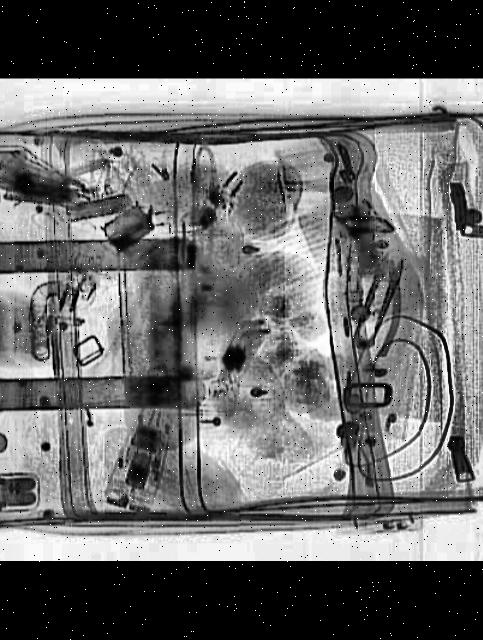Scissors: (344, 254, 413, 354)
